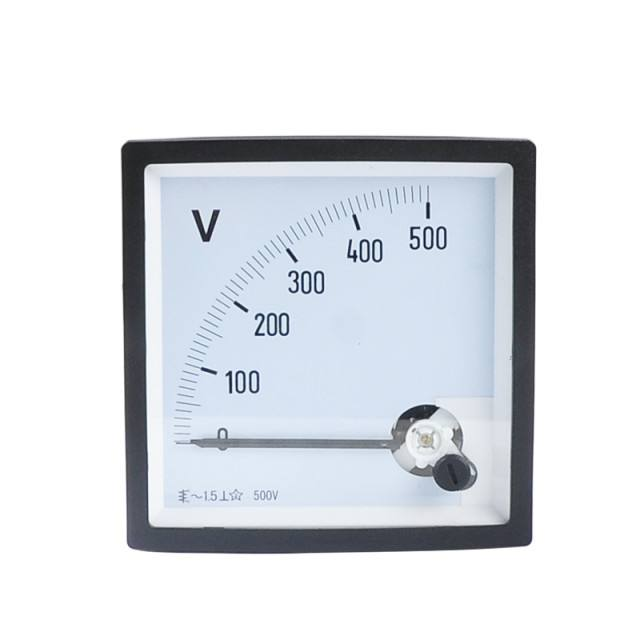pointer: (142, 161, 510, 523)
